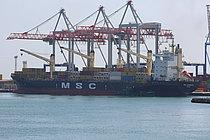Ship: (7, 50, 202, 100)
